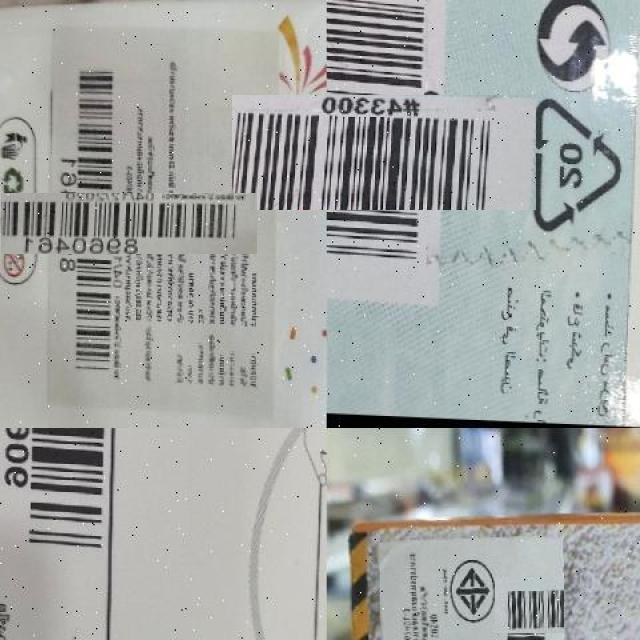Barcode: (280, 48, 490, 258), (0, 125, 190, 322), (3, 428, 113, 563), (498, 574, 562, 636)
